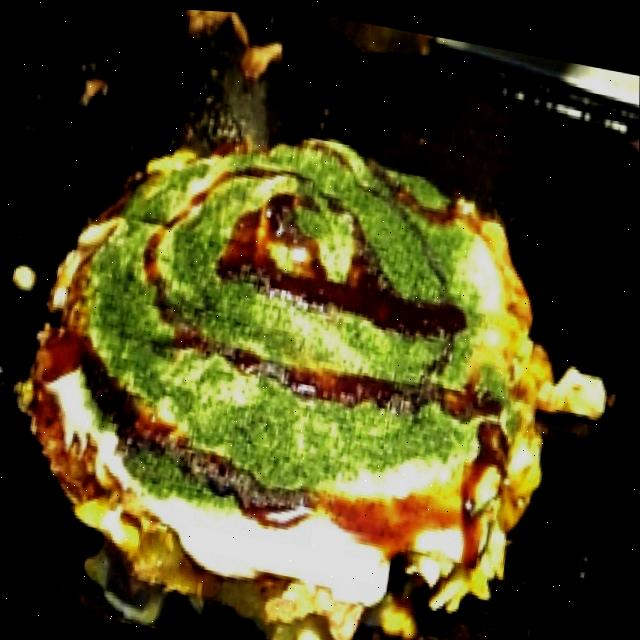蛋糕甜品: (0, 67, 594, 640)
